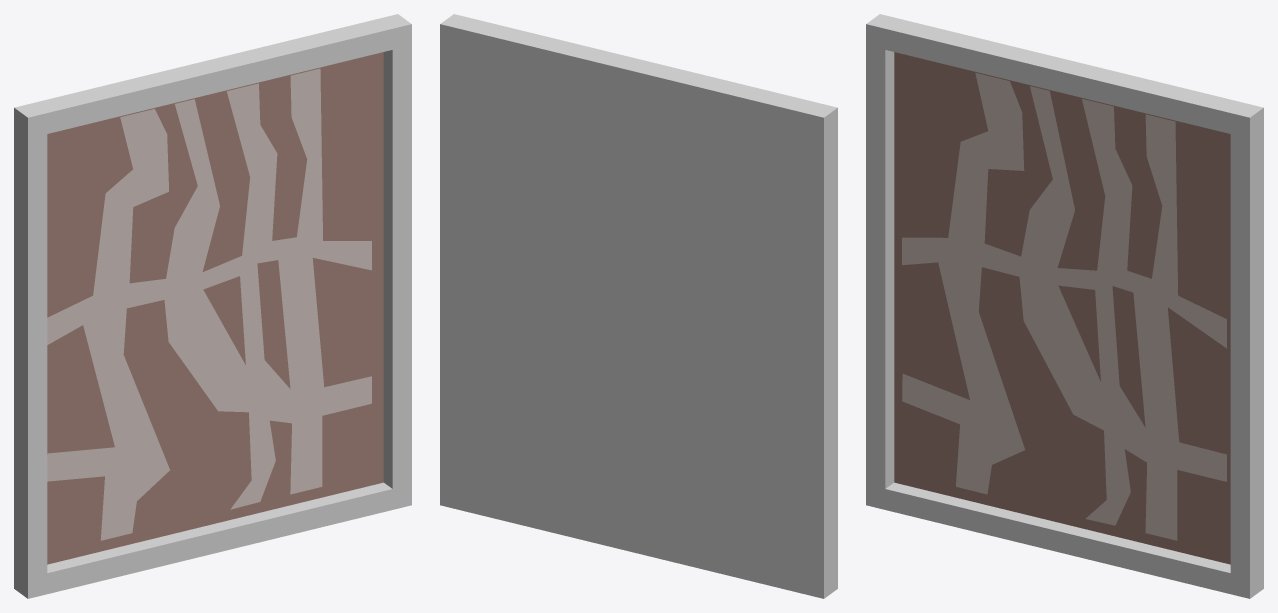
The model's file is picture_056.glb.
3 renders of one model, left to right at view 1: azimuth 30°, elevation 25°; view 2: azimuth 150°, elevation 25°; view 3: azimuth 330°, elevation 25°, orthographic.
Visible parts, largest first — view 1: picture_056; view 2: picture_056; view 3: picture_056.
Boxes of the visible parts, bbox=[...] form: picture_056: bbox=[14, 14, 411, 598]; picture_056: bbox=[440, 14, 837, 598]; picture_056: bbox=[866, 14, 1263, 598].
Size of the model in its own units: 0.5657 by 0.6777 by 0.0353.
Materials: 1 (1 with a texture image).
